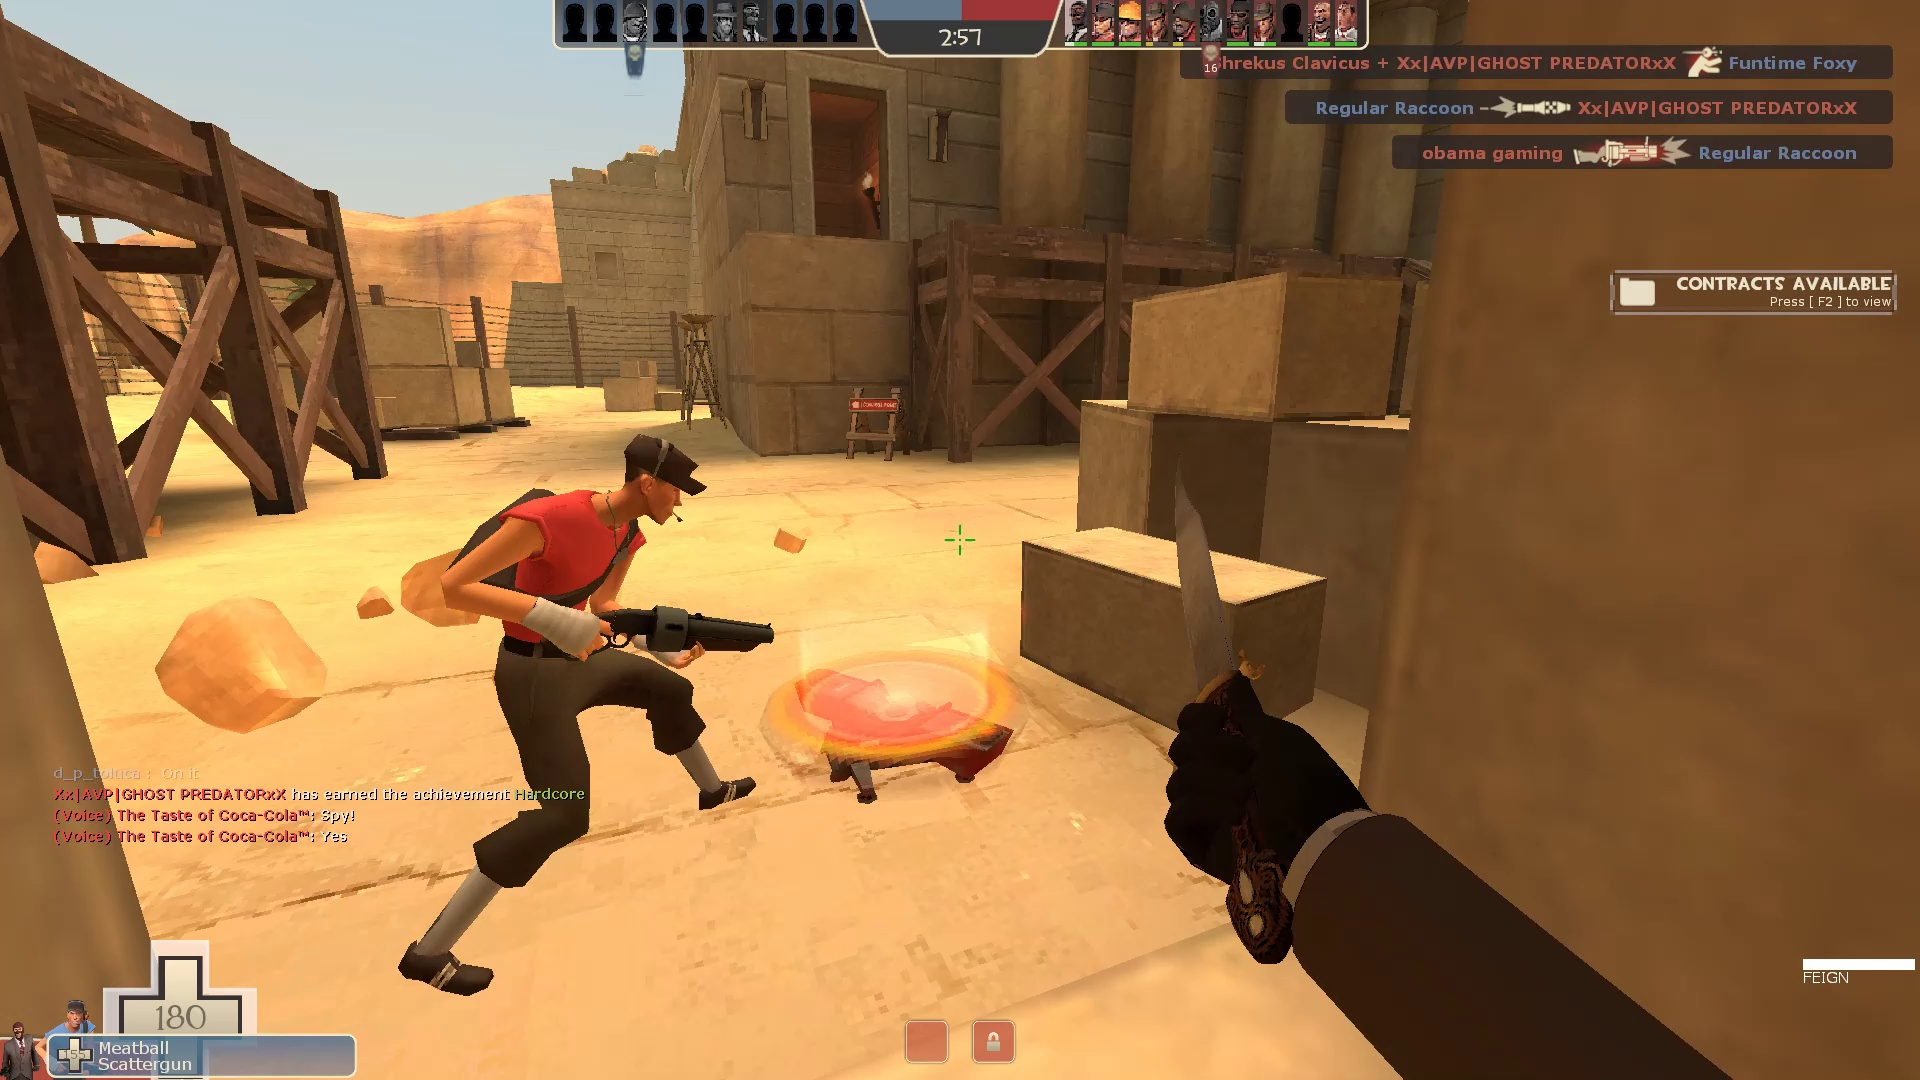red_scout: (369, 410, 793, 1025)
red_teleporter_entrance: (757, 620, 1038, 811)
